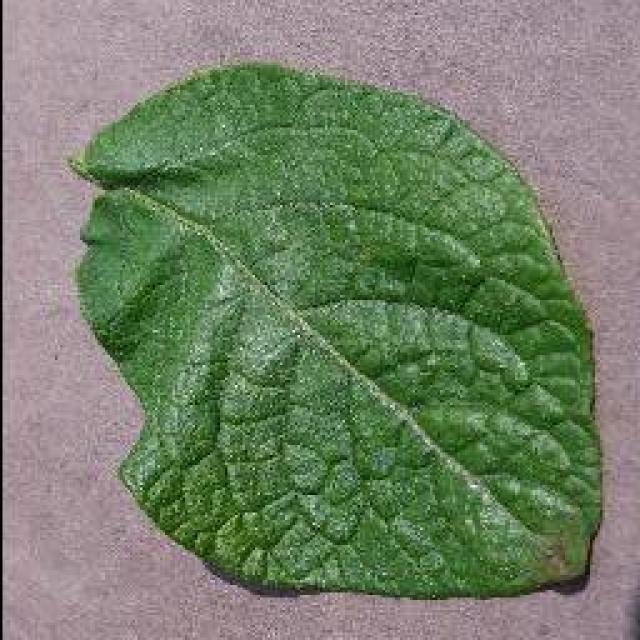Potato___healthy: (64, 54, 604, 602)
